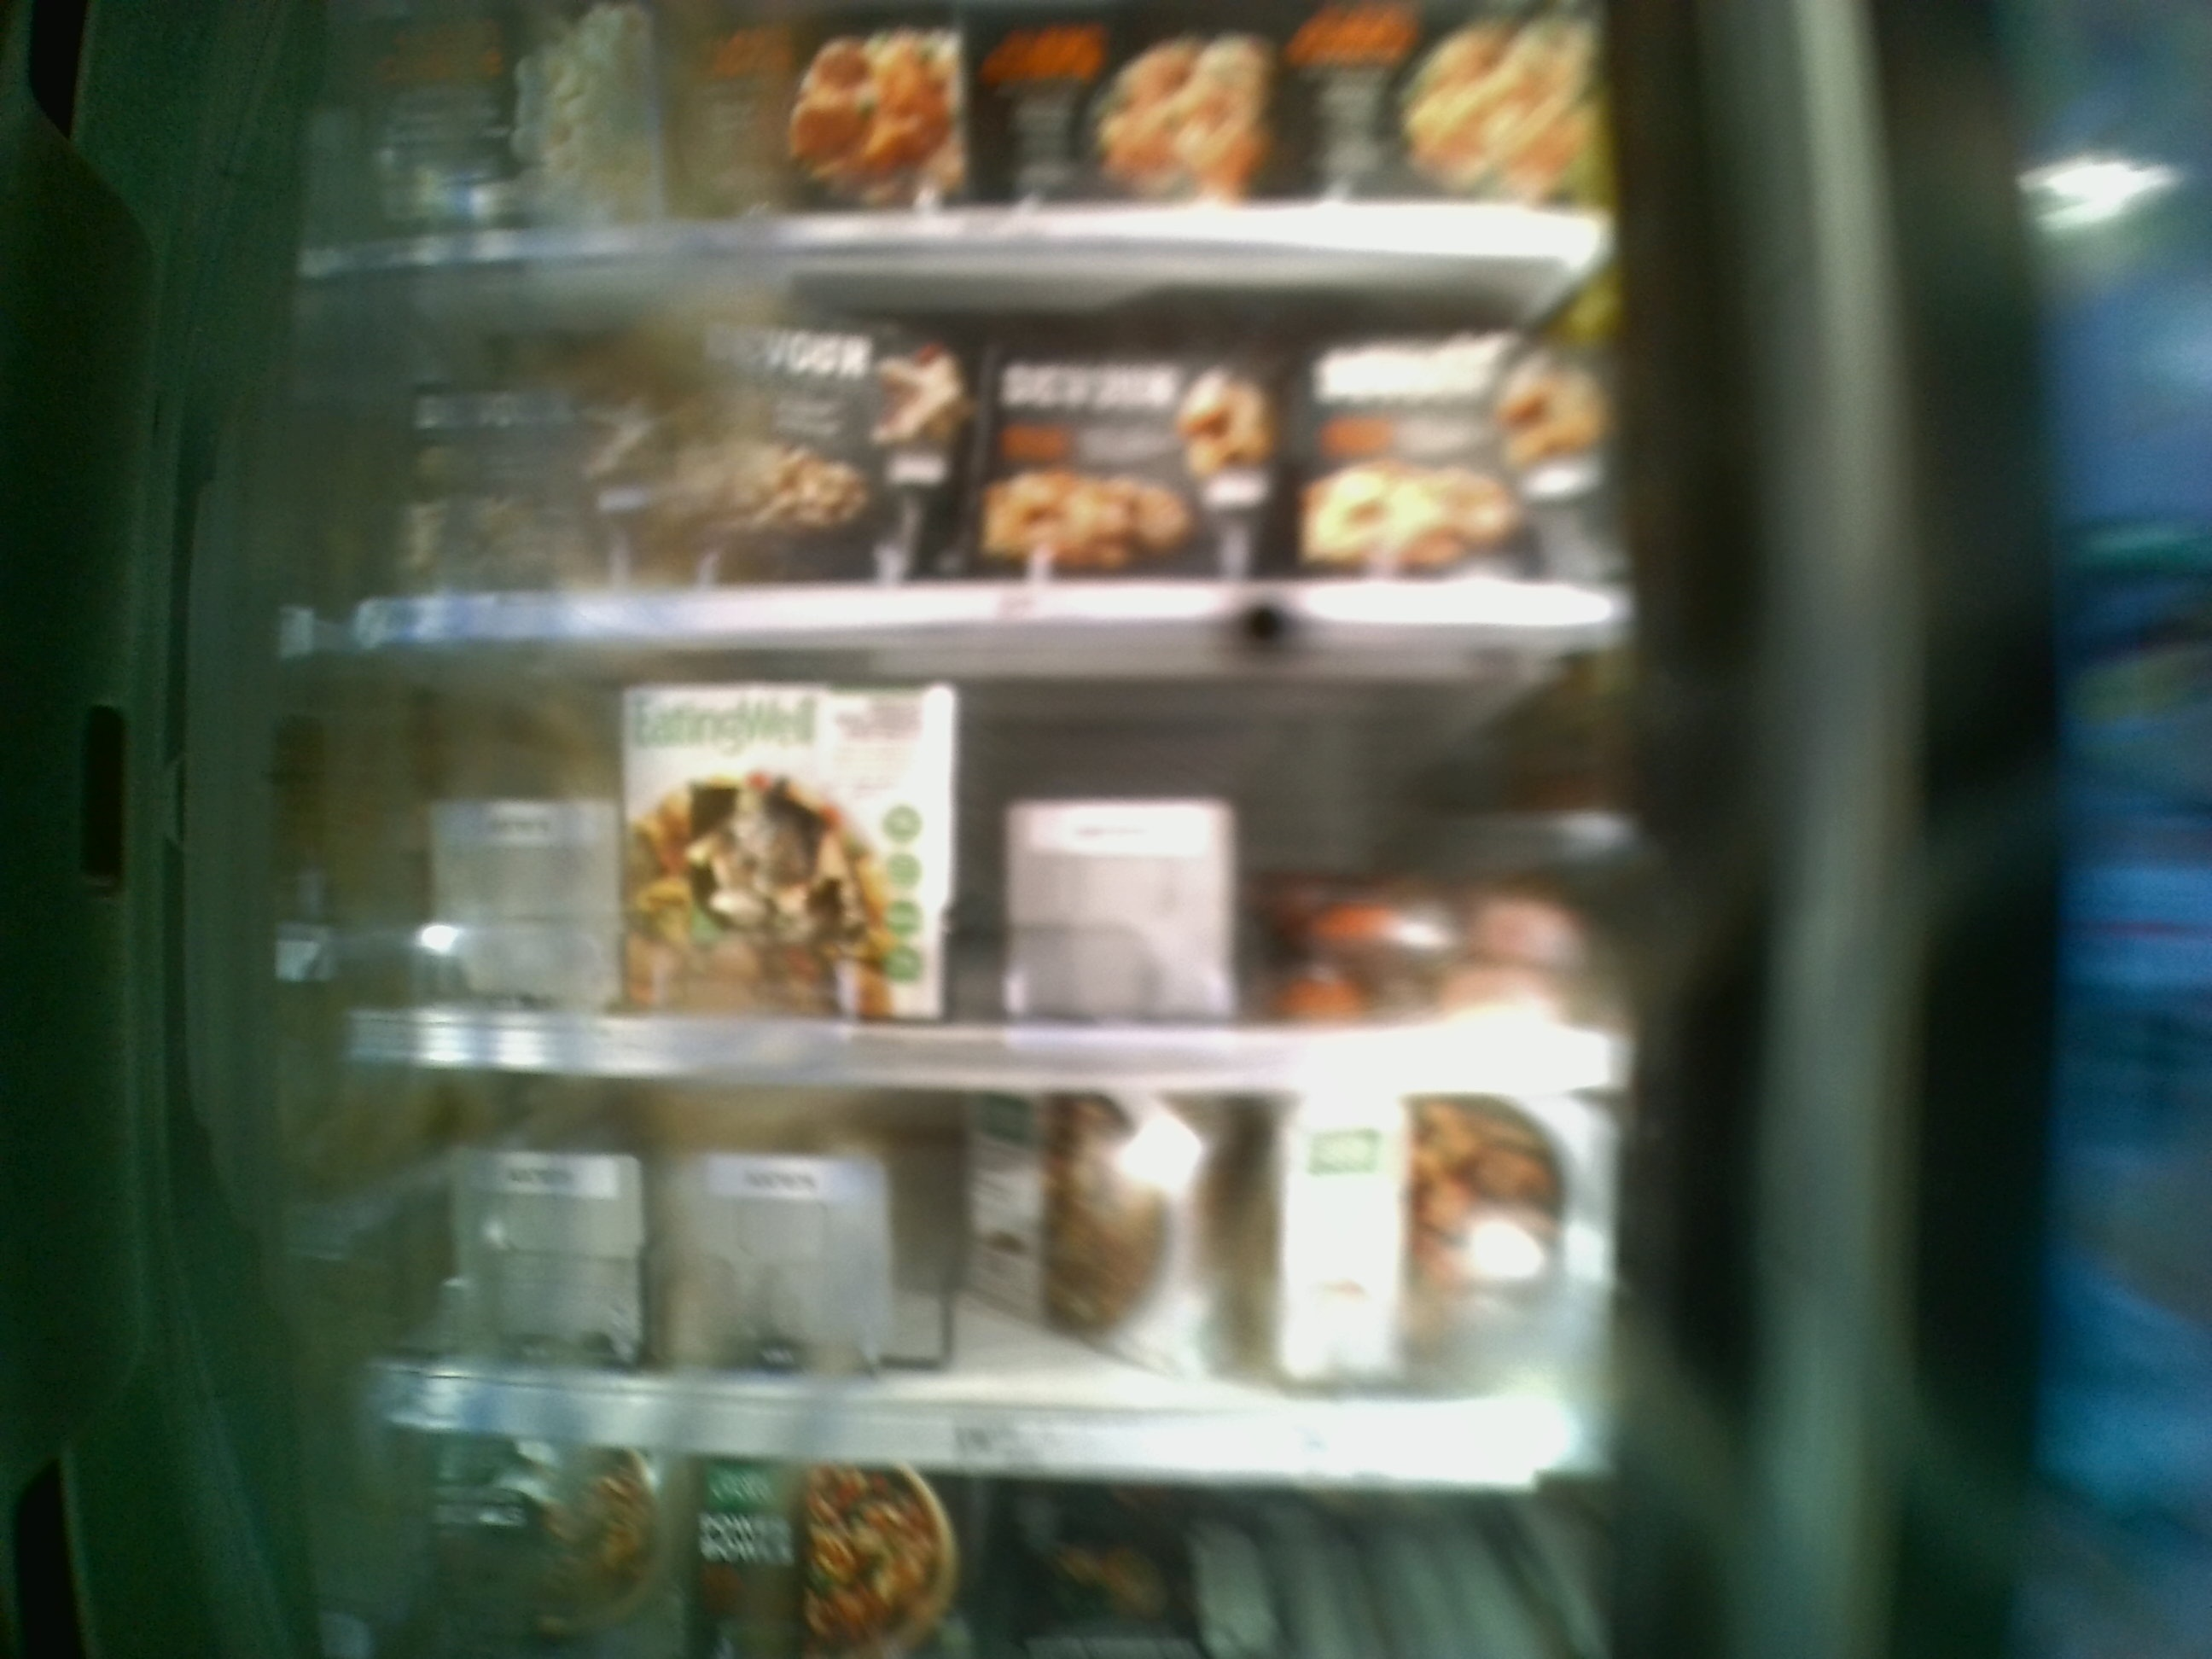shelf: (296, 626, 1629, 1087), (341, 1060, 1622, 1490), (298, 237, 1627, 626)
